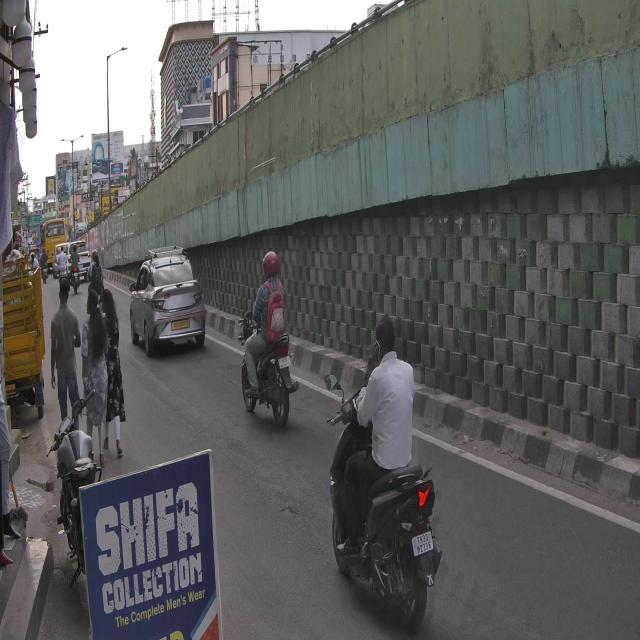single_rider: (325, 309, 443, 632), (236, 250, 299, 427)
